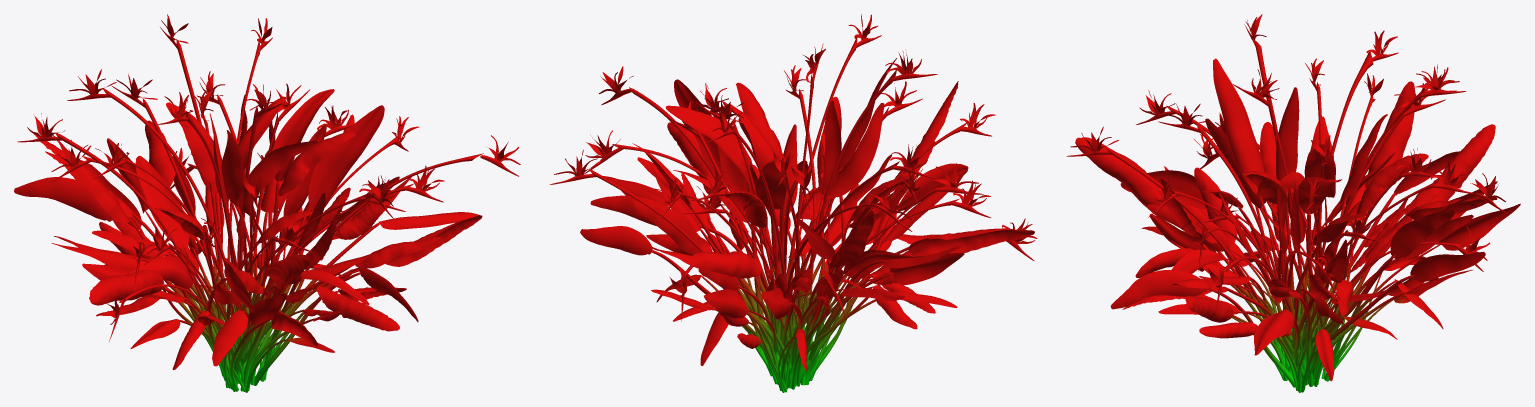
File: Var1_LOD0.fbx
3 renders of one model, left to right at view 1: azimuth 30°, elevation 25°; view 2: azimuth 150°, elevation 25°; view 3: azimuth 270°, elevation 25°, orthographic. The views are drawn at different scales.
Visible parts, largest first — view 1: _opzm_Var1_LOD0; view 2: _opzm_Var1_LOD0; view 3: _opzm_Var1_LOD0.
Boxes of the visible parts, x1,y1,x2,y2 form: _opzm_Var1_LOD0: (14,14,520,392); _opzm_Var1_LOD0: (550,14,1037,392); _opzm_Var1_LOD0: (1066,14,1520,392).
Bounding box in the file's own units: 241 × 177 × 224.
